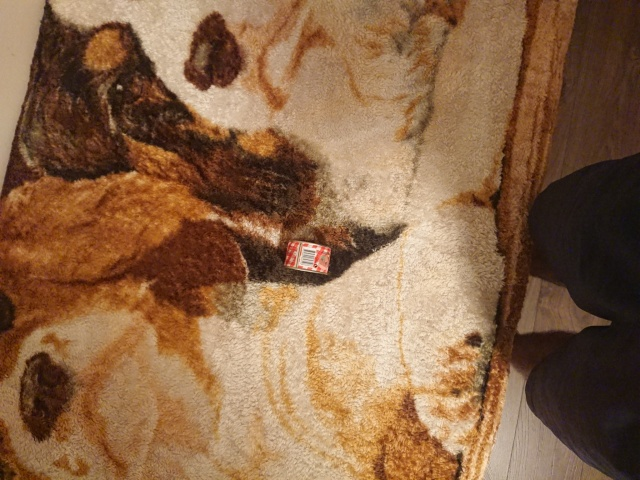Podravka Luncheon Meat 150g: (282, 237, 333, 277)
